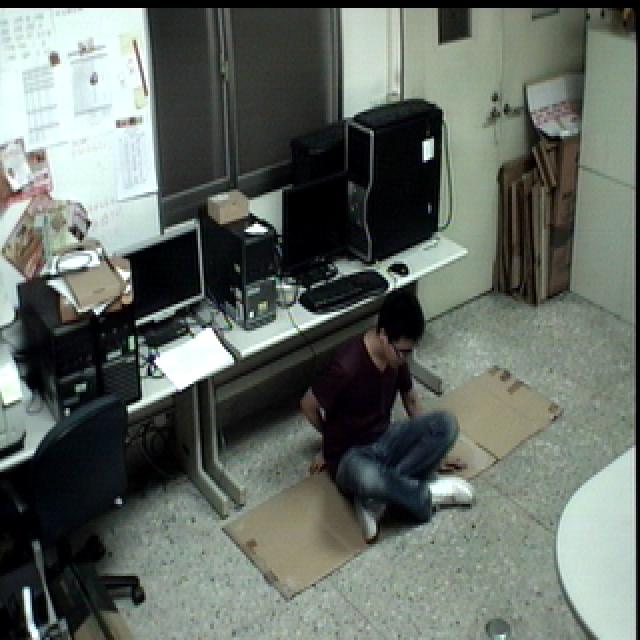sit: (296, 285, 487, 550)
